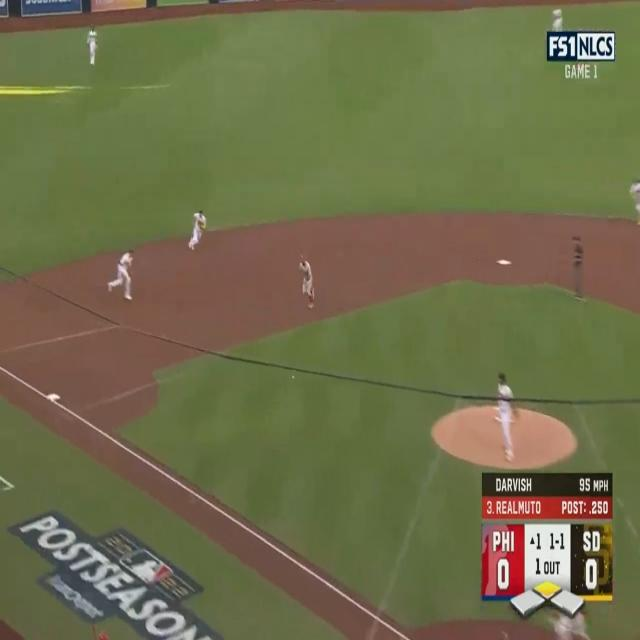baseball: (292, 375, 294, 379)
